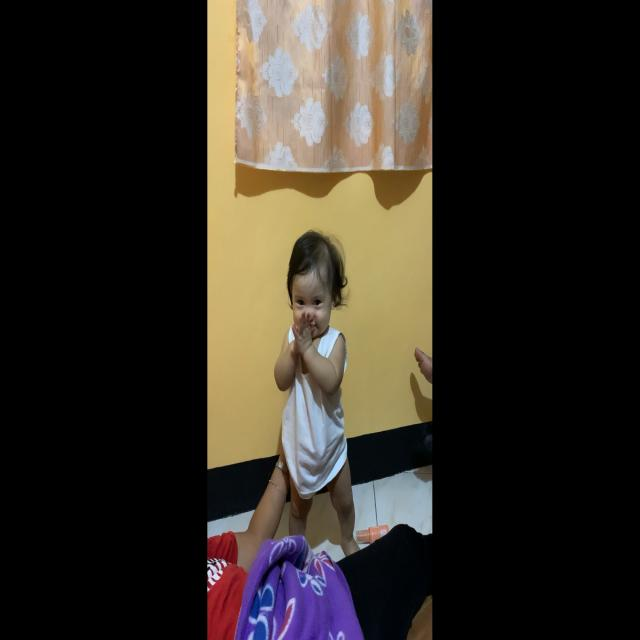child: (274, 226, 362, 556)
